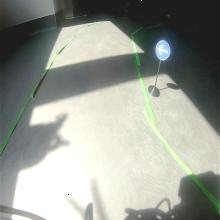left: (154, 39, 172, 62)
